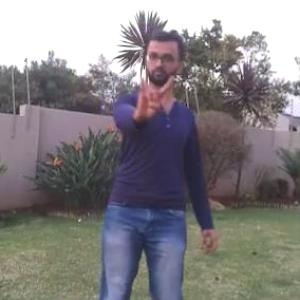takeoff-hand: (133, 70, 178, 123)
